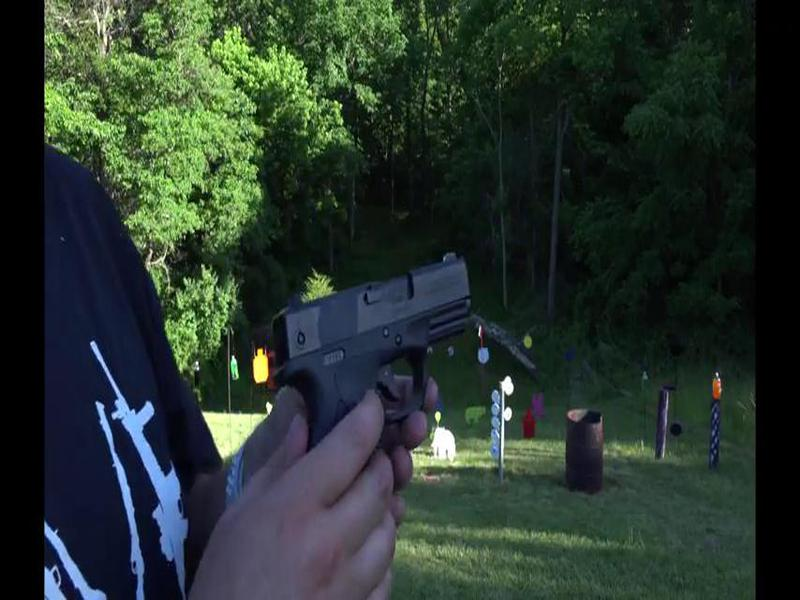Pistola: (253, 243, 499, 490)
